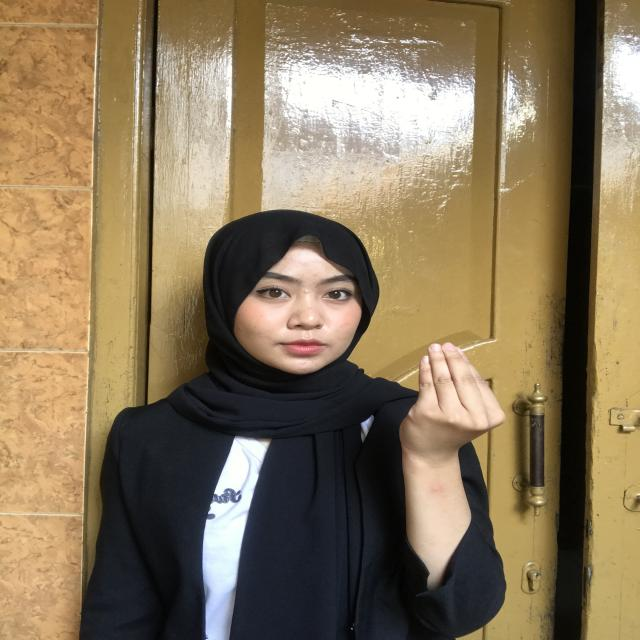kapan: (406, 340, 500, 497)
